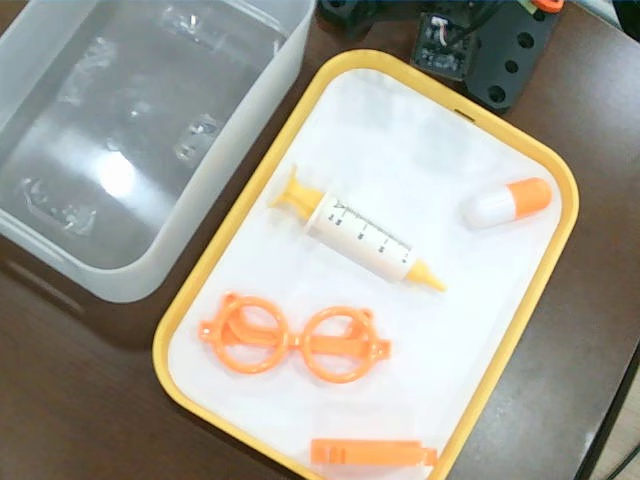pill: (453, 175, 553, 234)
syringe: (262, 158, 447, 297)
